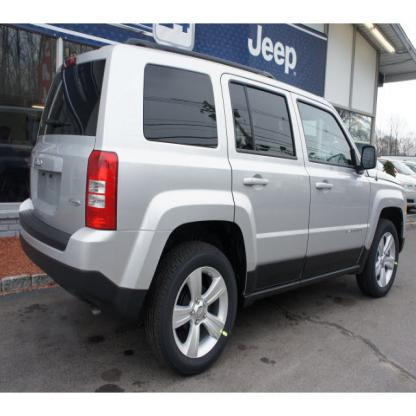Vehicle: (16, 44, 406, 374)
